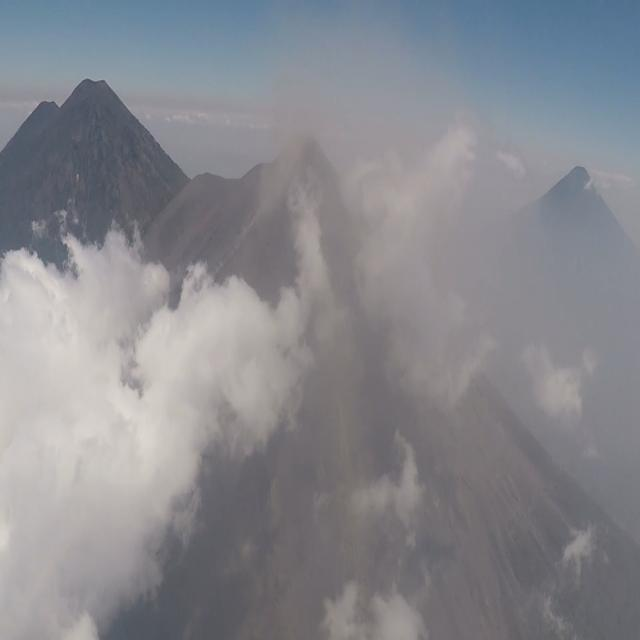Summit: (238, 126, 370, 207)
